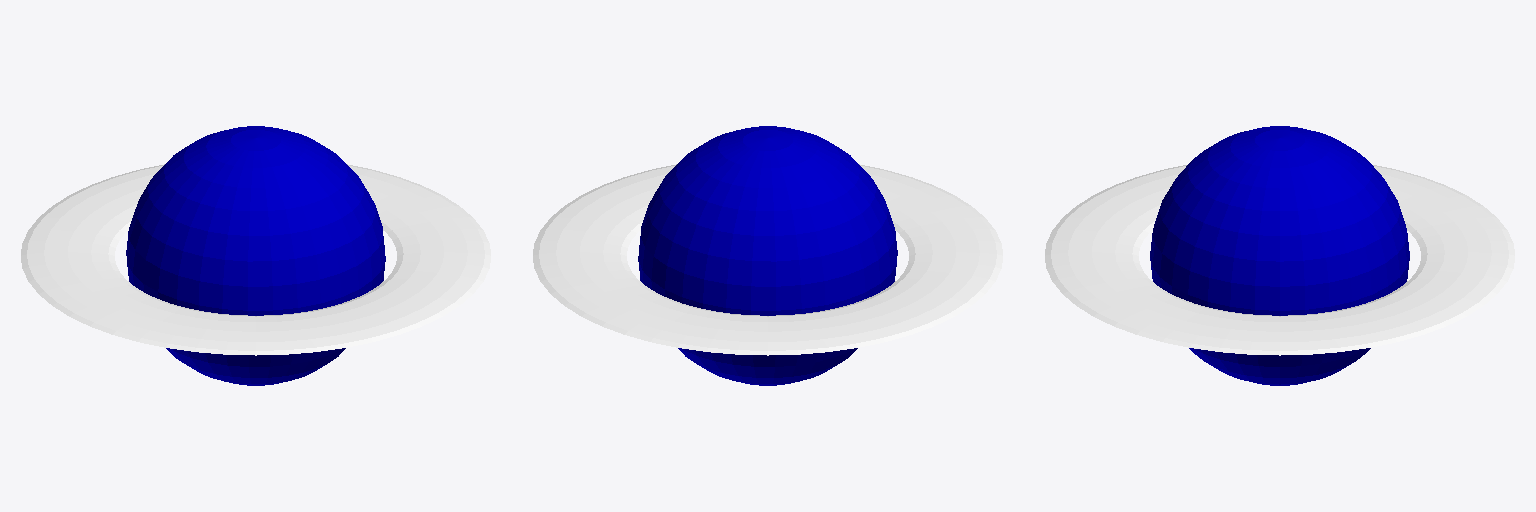
File: plan.obj
The picture shows the model from 3 angles: view 1: azimuth 30°, elevation 25°; view 2: azimuth 150°, elevation 25°; view 3: azimuth 270°, elevation 25°; orthographic projection.
Parts seen in each view (by area): view 1: Sphere, Torus; view 2: Sphere, Torus; view 3: Sphere, Torus.
Part boxes in pixels (bbox=[...]): Sphere: bbox=[126, 126, 385, 385]; Torus: bbox=[21, 164, 490, 355]; Sphere: bbox=[638, 126, 897, 385]; Torus: bbox=[533, 164, 1002, 355]; Sphere: bbox=[1150, 126, 1409, 385]; Torus: bbox=[1045, 165, 1514, 355].
Size of the model in its own units: 38.84 by 21.45 by 38.84.